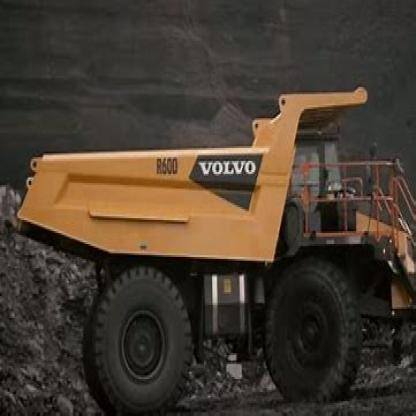dump_truck: (14, 83, 415, 414)
